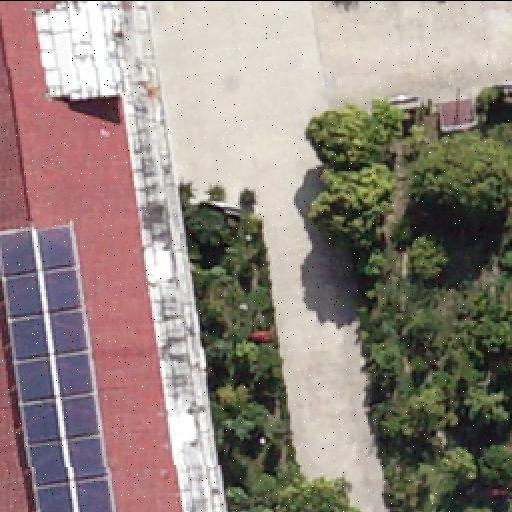solar-panel: (1, 264, 111, 484), (1, 225, 79, 271), (35, 480, 117, 512)
